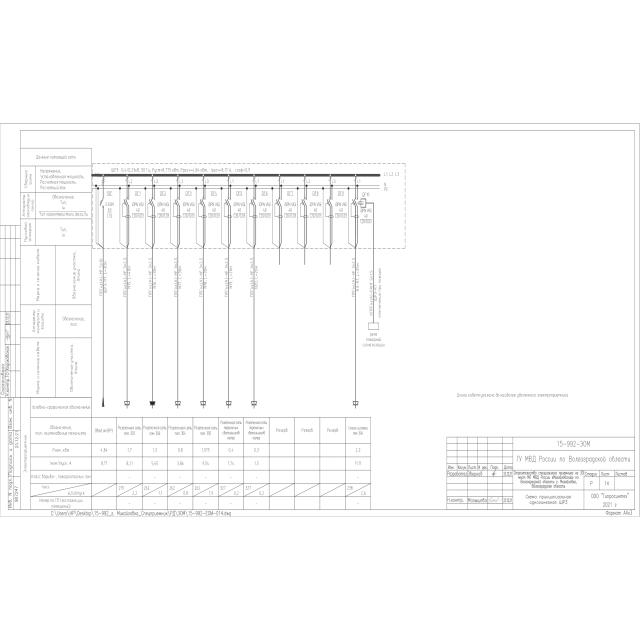-: (333, 202, 348, 219), (359, 207, 373, 225), (232, 202, 246, 220), (130, 201, 144, 219), (309, 202, 323, 219), (207, 202, 221, 219), (182, 202, 196, 219), (156, 202, 170, 218), (283, 202, 297, 218), (257, 202, 271, 218), (105, 202, 115, 218), (111, 167, 119, 173)
QF: (99, 176, 105, 210)
QFD: (274, 176, 284, 218), (172, 176, 182, 218), (351, 177, 360, 219), (325, 176, 334, 218), (249, 176, 258, 218), (198, 176, 207, 218), (300, 176, 308, 218), (224, 176, 232, 218), (148, 176, 156, 218), (122, 176, 130, 218)
U-: (358, 201, 364, 205)
